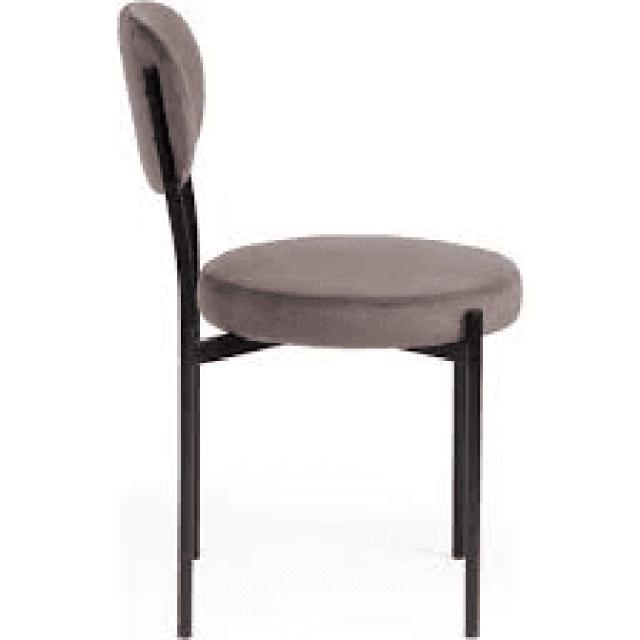chair: (108, 0, 526, 640), (135, 0, 530, 339)
